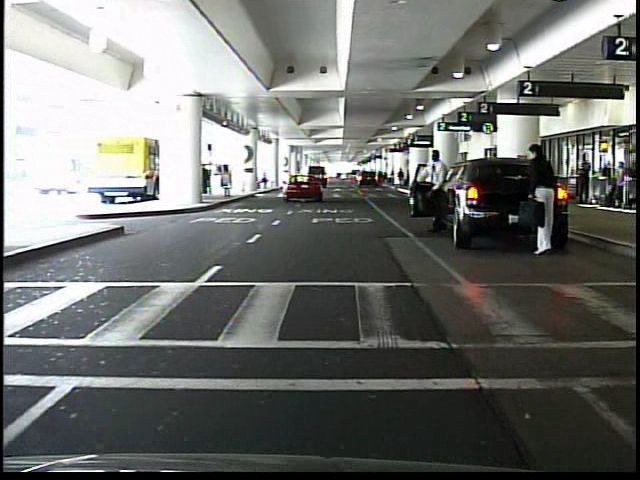person: (524, 145, 565, 260), (424, 150, 449, 240), (576, 156, 590, 205), (196, 160, 212, 196), (397, 167, 407, 189)
